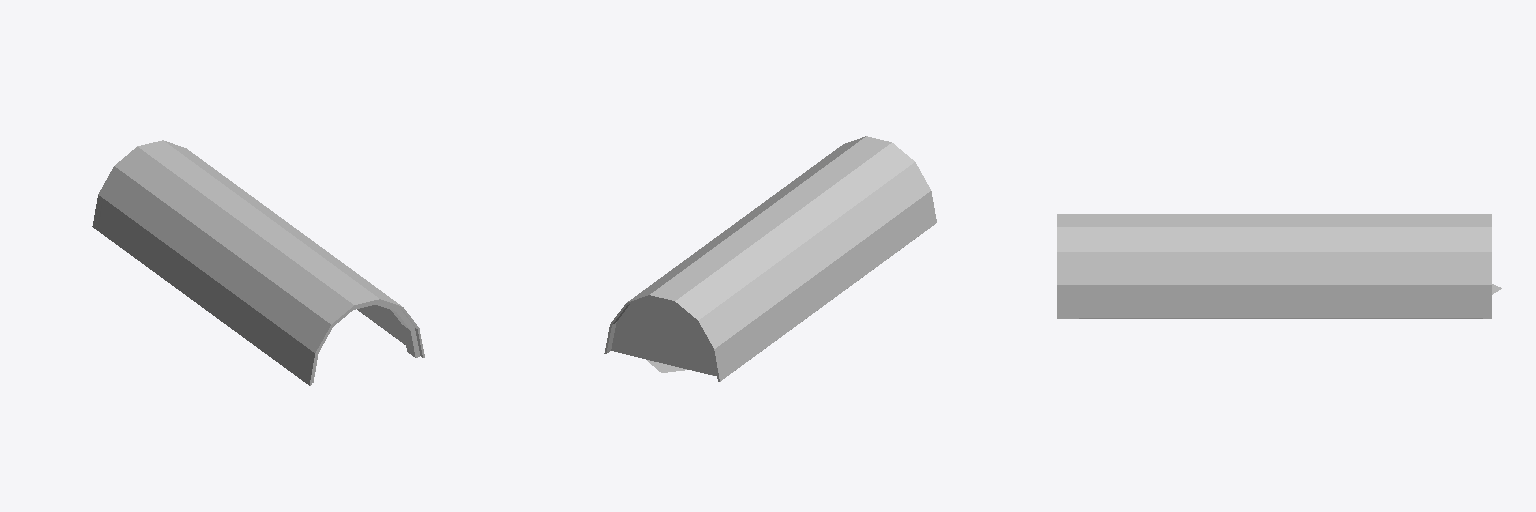
Rendered from small hangar.obj.
The picture shows the model from 3 angles: view 1: azimuth 30°, elevation 25°; view 2: azimuth 150°, elevation 25°; view 3: azimuth 270°, elevation 25°; orthographic projection.
Parts seen in each view (by area): view 1: small hangar; view 2: small hangar; view 3: small hangar.
Boxes of the visible parts, <box> form: small hangar: <box>92,140,424,385</box>; small hangar: <box>604,136,936,381</box>; small hangar: <box>1057,214,1501,318</box>.
Bounding box in the file's own units: 24.6 × 14.34 × 82.05.